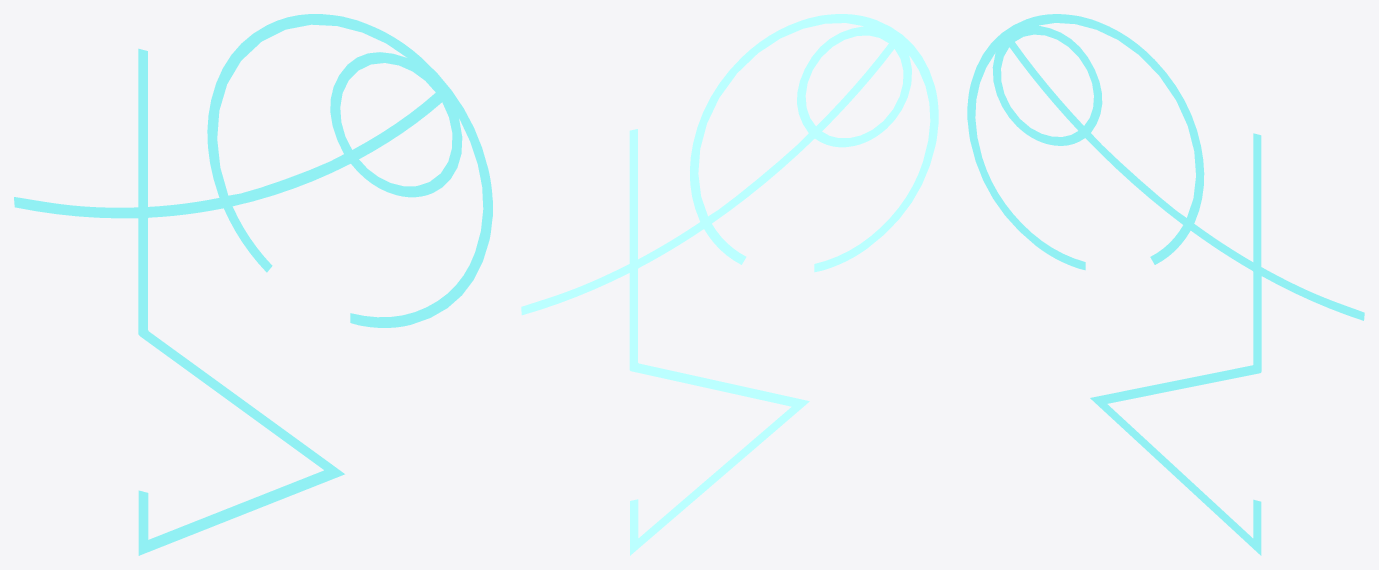
File: Rune_Glow_5.fbx
3 views of the same model, side by side, from view 1: azimuth 90°, elevation 25°; view 2: azimuth 150°, elevation 25°; view 3: azimuth 270°, elevation 25° (orthographic). The views are drawn at different scales.
Visible parts, largest first — view 1: Rune5; view 2: Rune5; view 3: Rune5.
Boxes of the visible parts, box(x1,y1,x2,y2) form: Rune5: box(14, 14, 492, 555); Rune5: box(521, 14, 938, 555); Rune5: box(967, 14, 1364, 555).
Bounding box in the file's own units: 0.3379 × 0.7412 × 0.5423.
